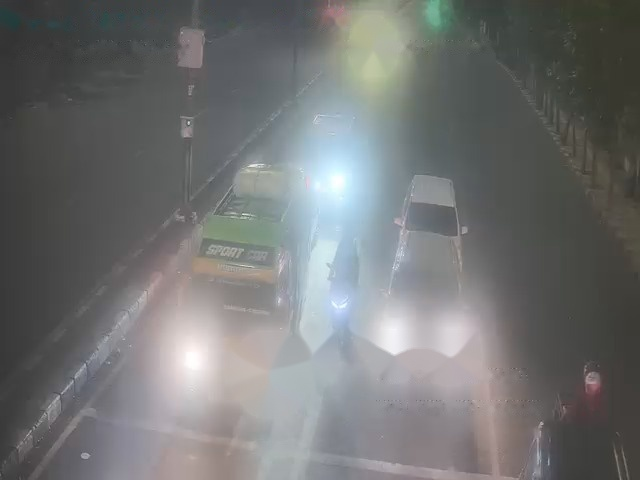Mobil: (382, 233, 467, 355), (522, 410, 637, 478), (298, 100, 360, 201), (389, 168, 466, 246)
Motor: (329, 280, 353, 329)
Truk: (190, 164, 306, 390)
